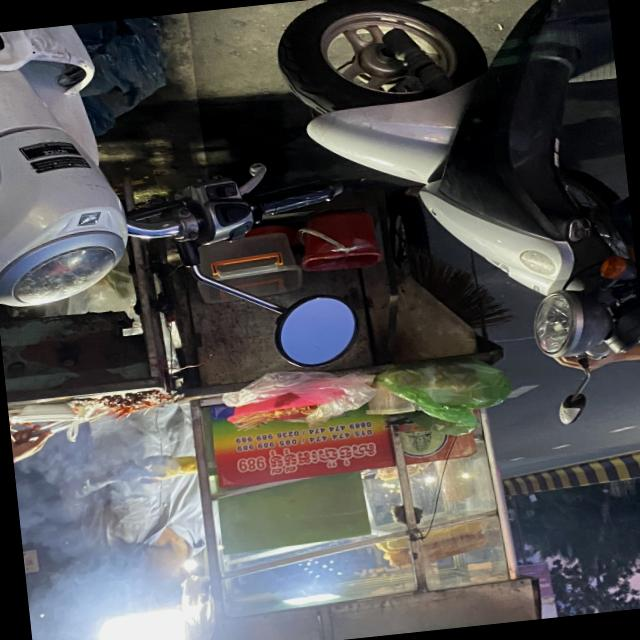295: (232, 428, 374, 453)
422: (232, 419, 373, 445)
887: (235, 453, 269, 476)
Yolov11kh: (264, 436, 379, 477)
